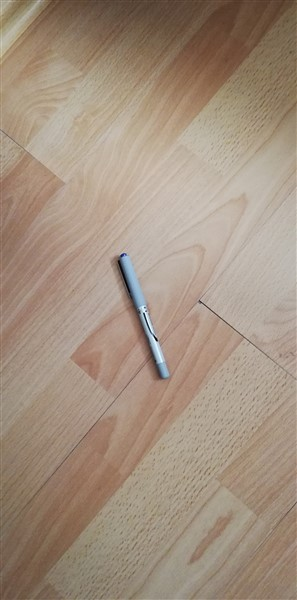pilot kalem: (115, 248, 175, 384)
